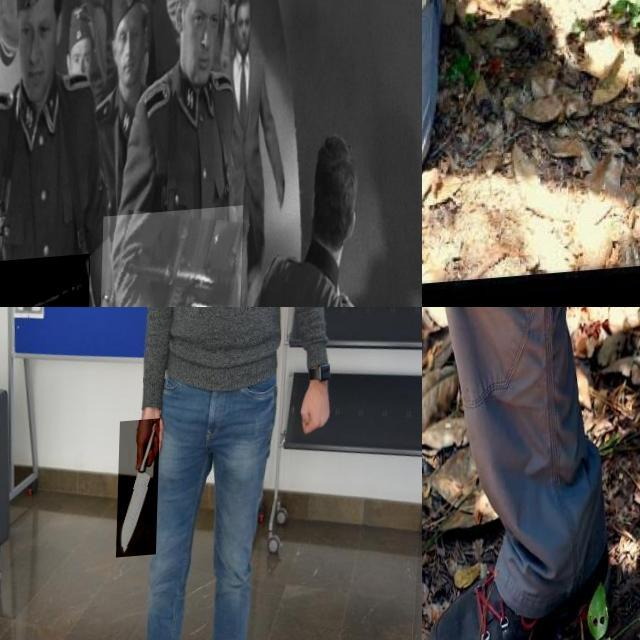-: (553, 307, 640, 385), (120, 424, 162, 563), (422, 0, 462, 37)
gun-knife-thesis - v11 Yolov5 augmented: (102, 210, 245, 307)
